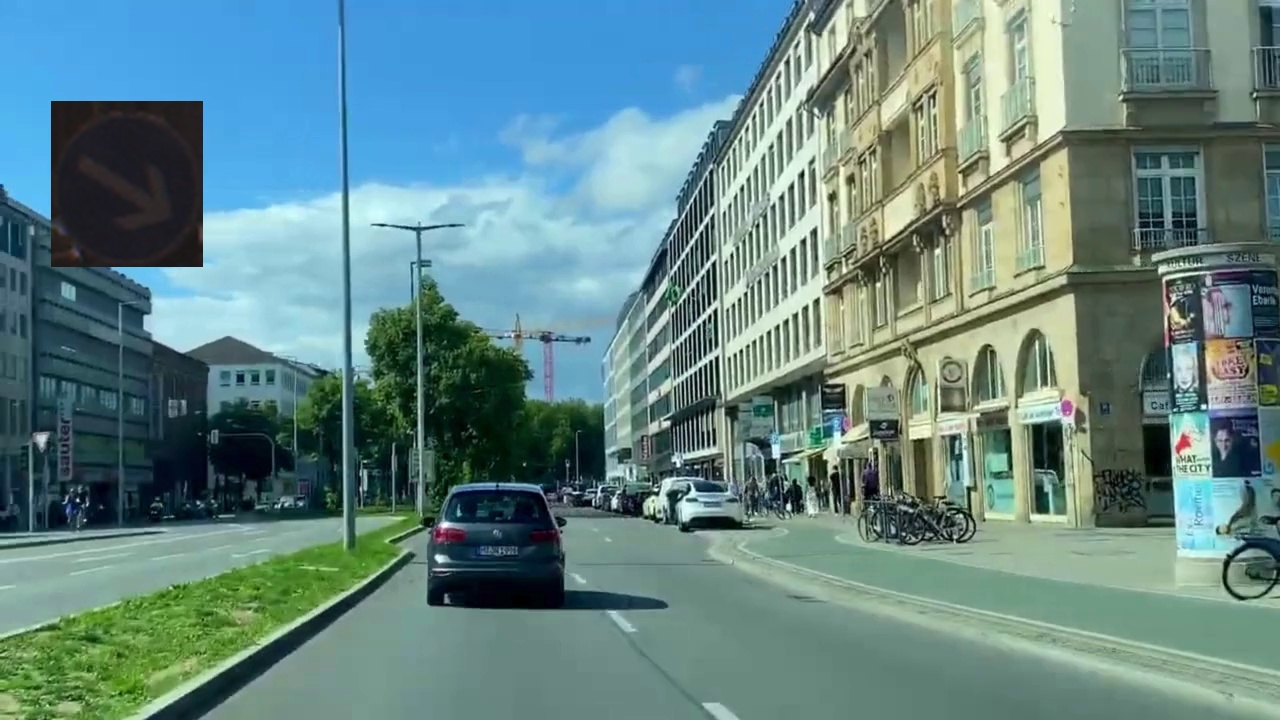Keep right: (51, 101, 203, 267)
